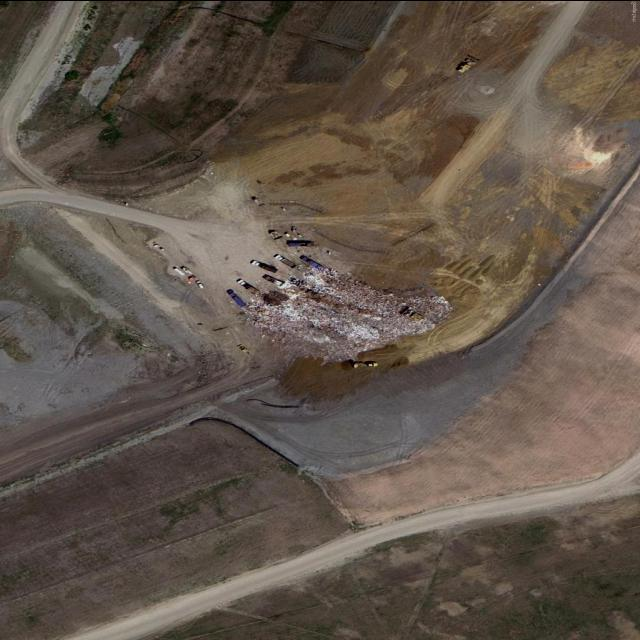dump_site: (240, 252, 472, 372), (275, 275, 311, 296)
